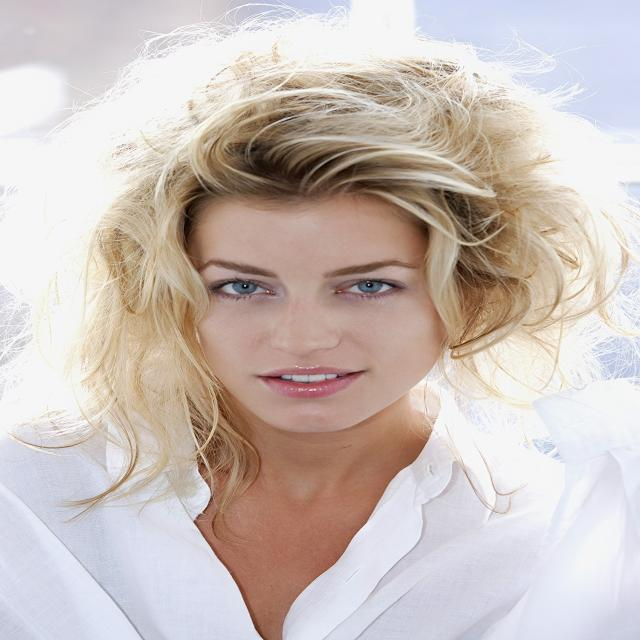human: (49, 68, 640, 640)
